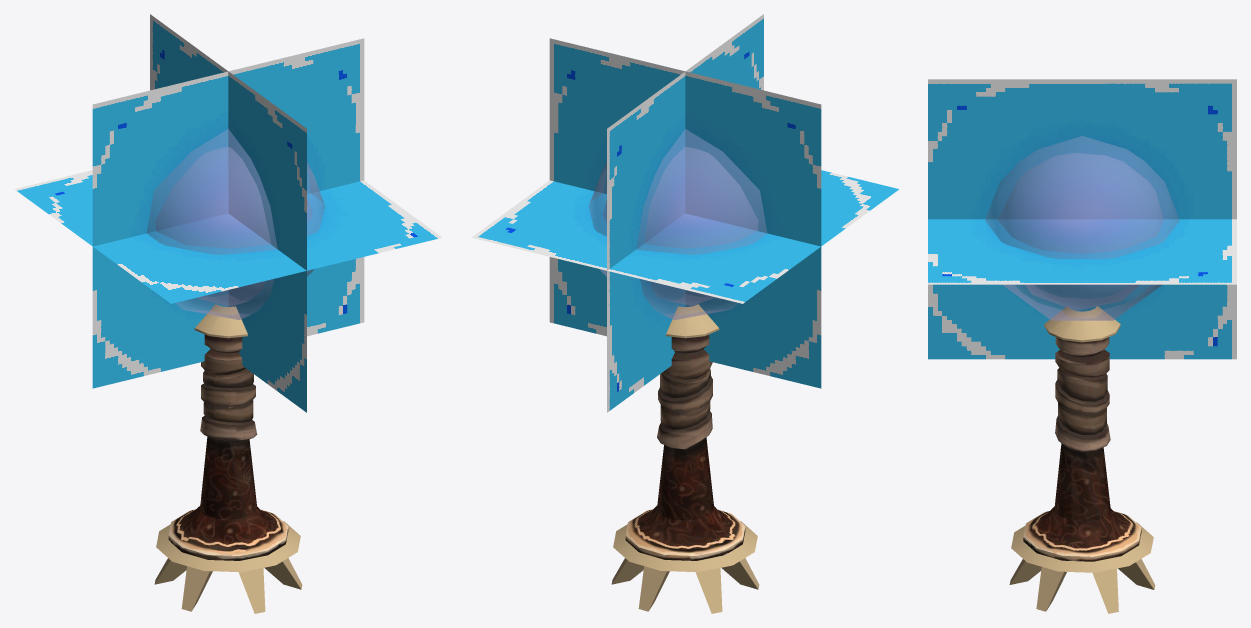
File: Script-Wand-4-blue.fbx
The picture shows the model from 3 angles, left to right: view 1: azimuth 30°, elevation 25°; view 2: azimuth 150°, elevation 25°; view 3: azimuth 270°, elevation 25°; orthographic projection.
Visible parts, largest first — view 1: Plane, Cylinder.001; view 2: Plane, Cylinder.001; view 3: Plane, Cylinder.001.
Boxes of the visible parts, bbox=[...] form: Plane: bbox=[14, 14, 441, 412]; Cylinder.001: bbox=[147, 129, 324, 613]; Plane: bbox=[472, 14, 899, 412]; Cylinder.001: bbox=[589, 129, 766, 613]; Plane: bbox=[928, 79, 1236, 359]; Cylinder.001: bbox=[985, 136, 1179, 613].
Bounding box in the file's own units: 21.81 × 39.41 × 21.81.
4 materials, 2 textured.
